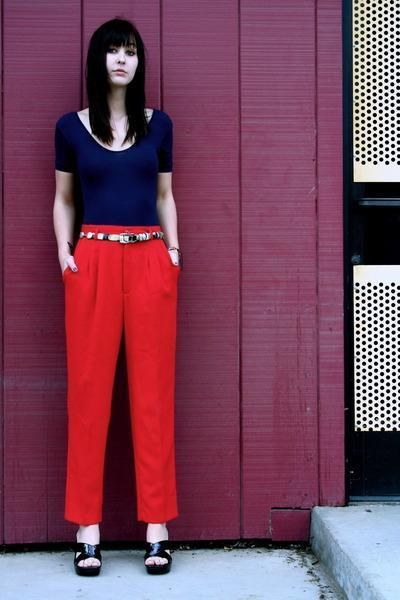pants: (62, 225, 178, 527)
shirt: (54, 109, 172, 225)
shoe: (74, 535, 171, 576)
